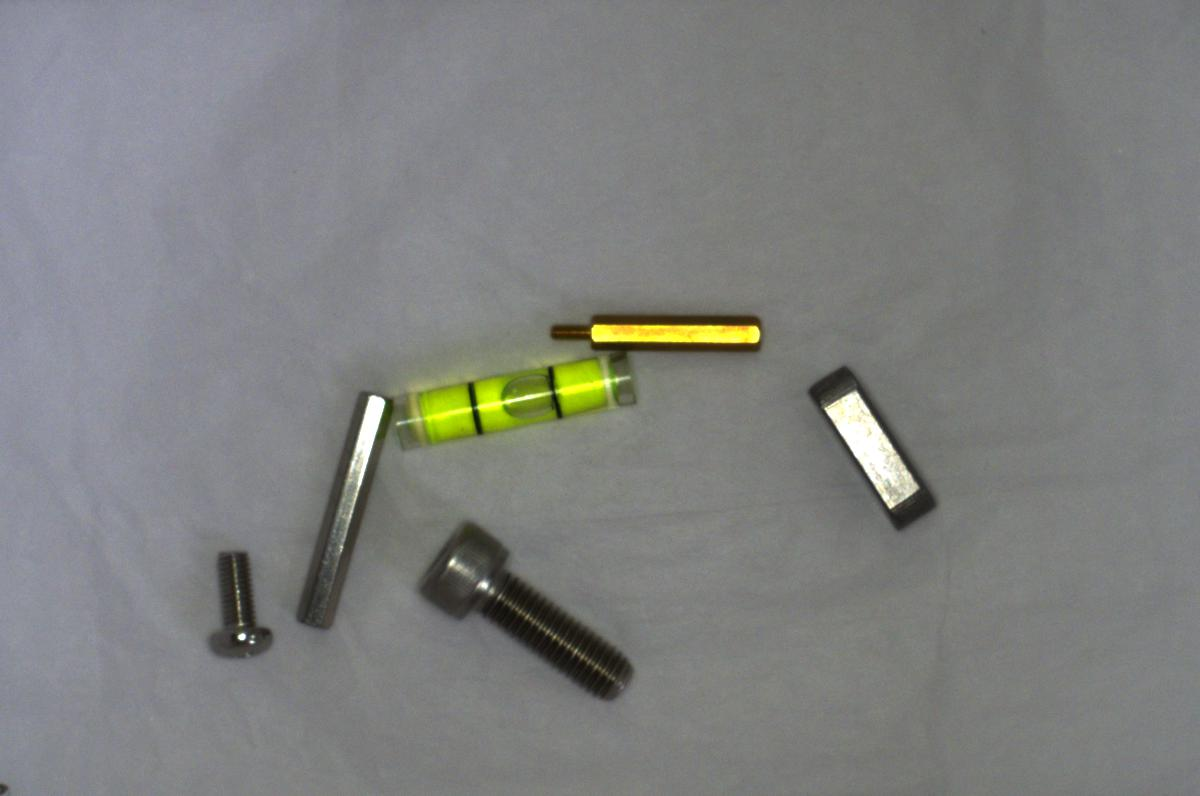Double hexagonal column: (292, 382, 384, 635)
Hexagon pillar: (540, 302, 771, 359)
Hexagon screw: (414, 513, 638, 706)
Horizontal bubble: (379, 349, 642, 449)
Keybar: (802, 355, 938, 530)
Round head screw: (200, 545, 279, 663)
